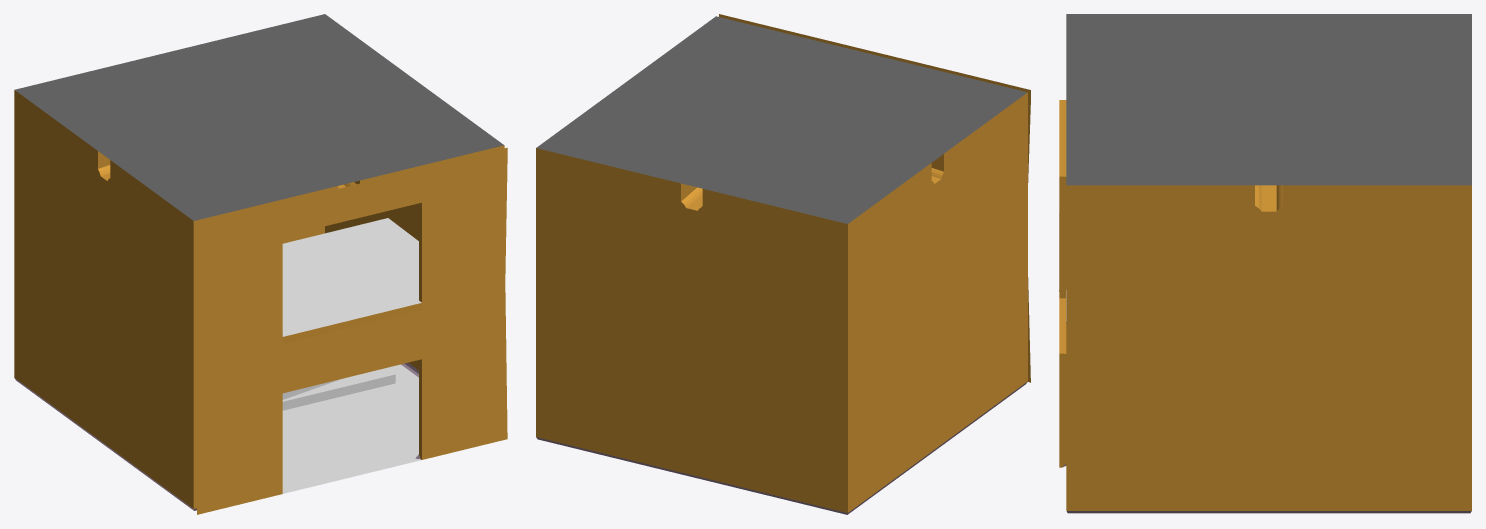
The model's file is stairsRoom1.fbx.
3 views of the same model, side by side, from view 1: azimuth 30°, elevation 25°; view 2: azimuth 150°, elevation 25°; view 3: azimuth 270°, elevation 25° (orthographic). The views are drawn at different scales.
Parts seen in each view (by area): view 1: Plane, Cube; view 2: Plane; view 3: Plane.
Boxes of the visible parts, x1,y1,x2,y2 form: Plane: [14, 14, 507, 514]; Cube: [282, 368, 395, 410]; Plane: [536, 14, 1030, 514]; Plane: [1059, 14, 1471, 513].
Size of the model in its own units: 1450 by 1300 by 1476.
